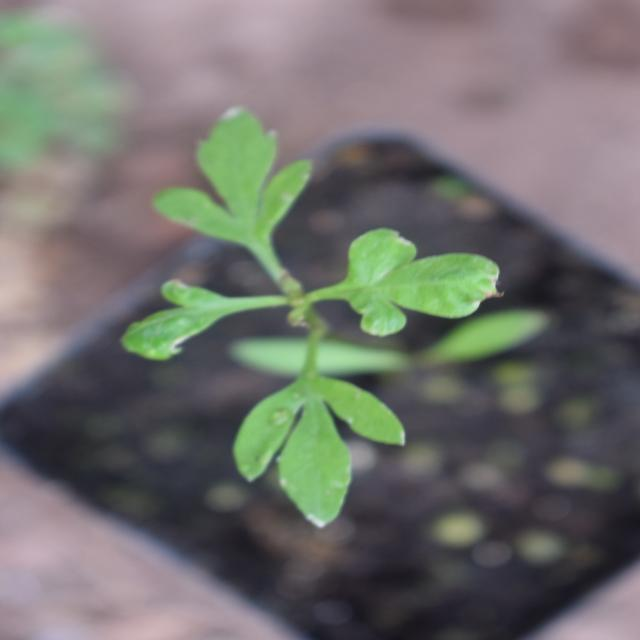Bidens pilosa: (115, 132, 521, 526)
